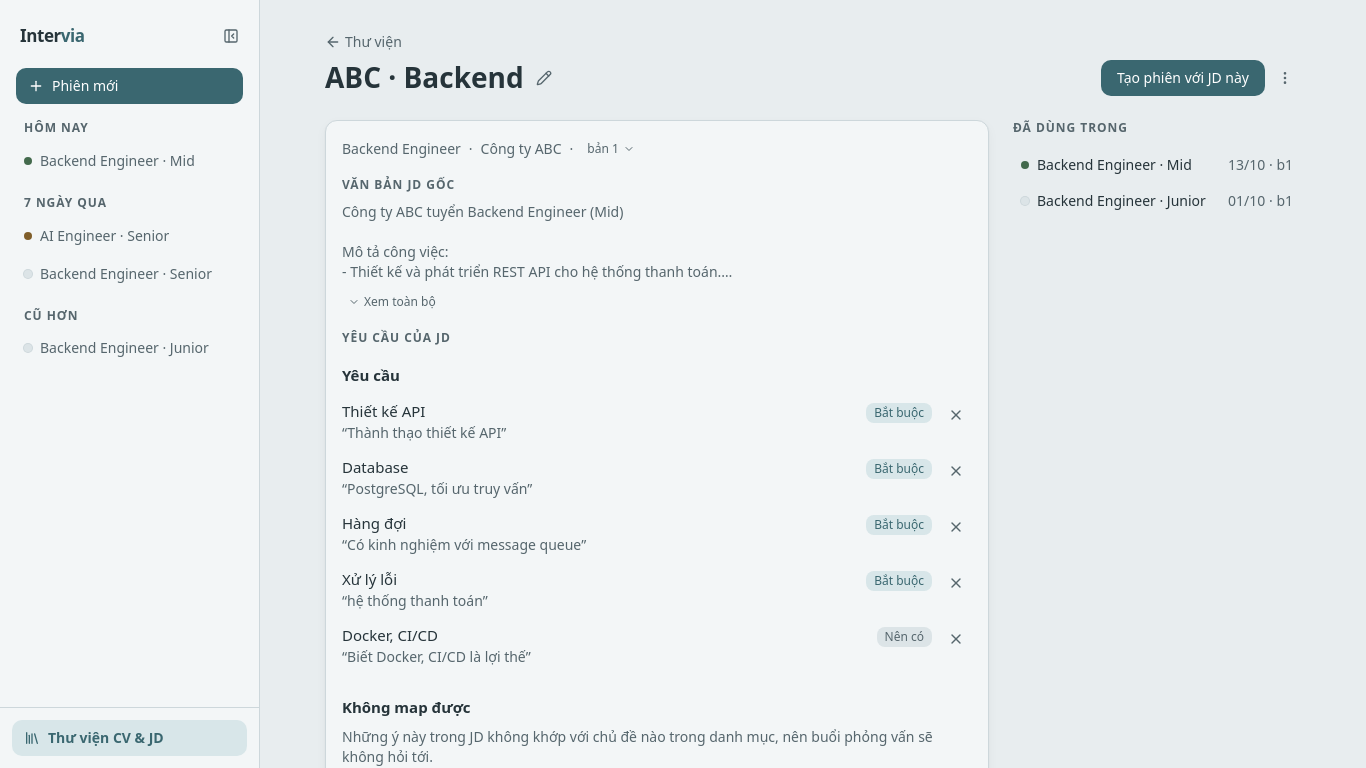
Test: JdDetailPage › edits a requirement and saves it as a new version
Click the button with aria-label "Thiết kế API: Bắt buộc, đổi sang Nên có" at (899, 411), box [866,399,932,423]
(page scrolled)
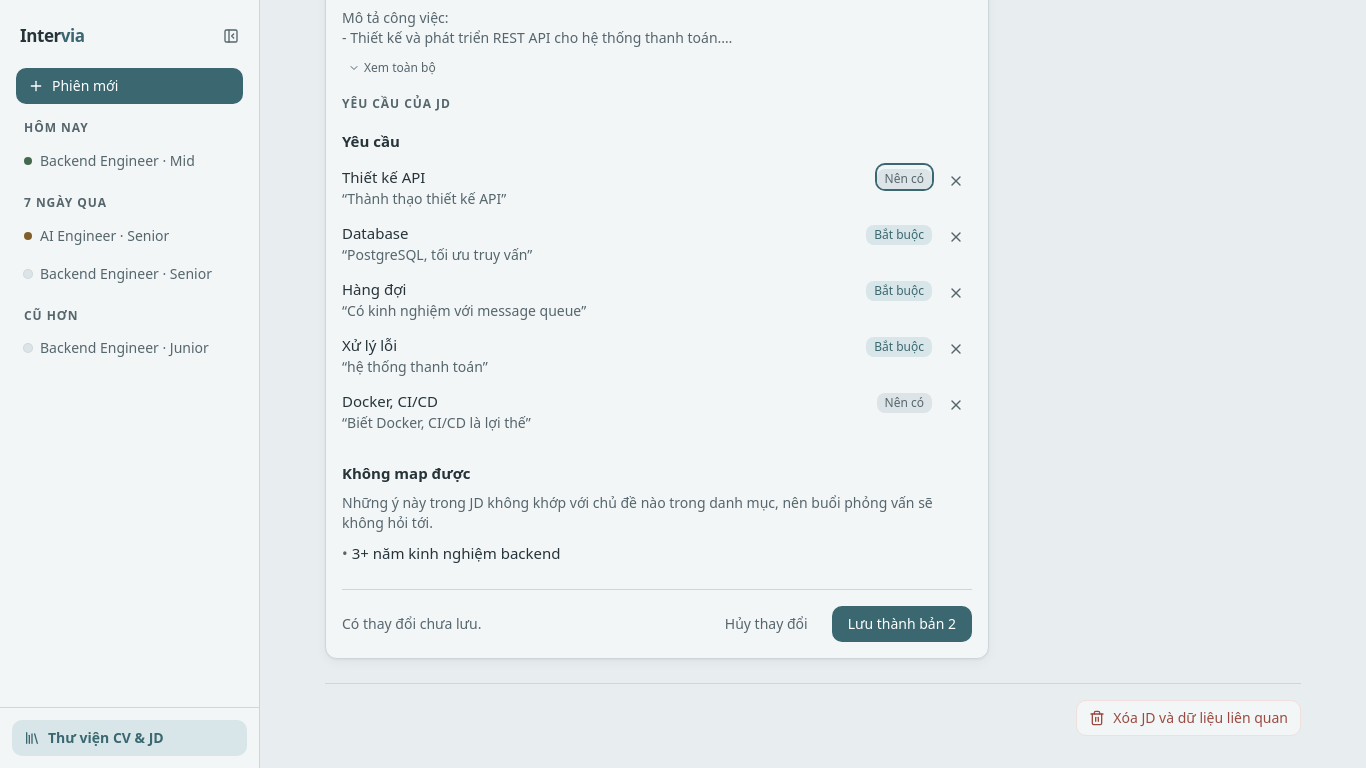
Click the button "Lưu thành bản 2" at (902, 624), box [832,606,972,642]
(page scrolled)
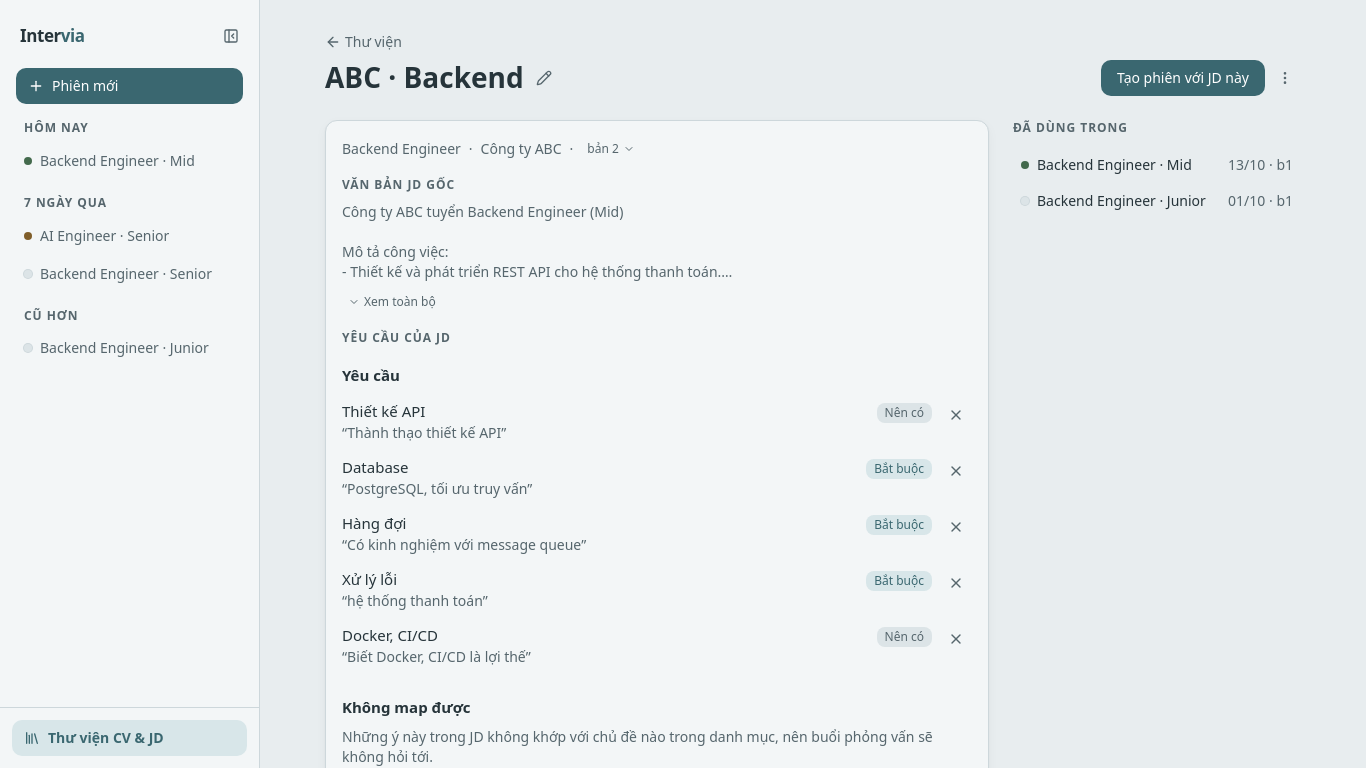
Expected: the button with aria-label "Bản 2, xem lịch sử phiên bản" is shown, [581,137,641,161]
